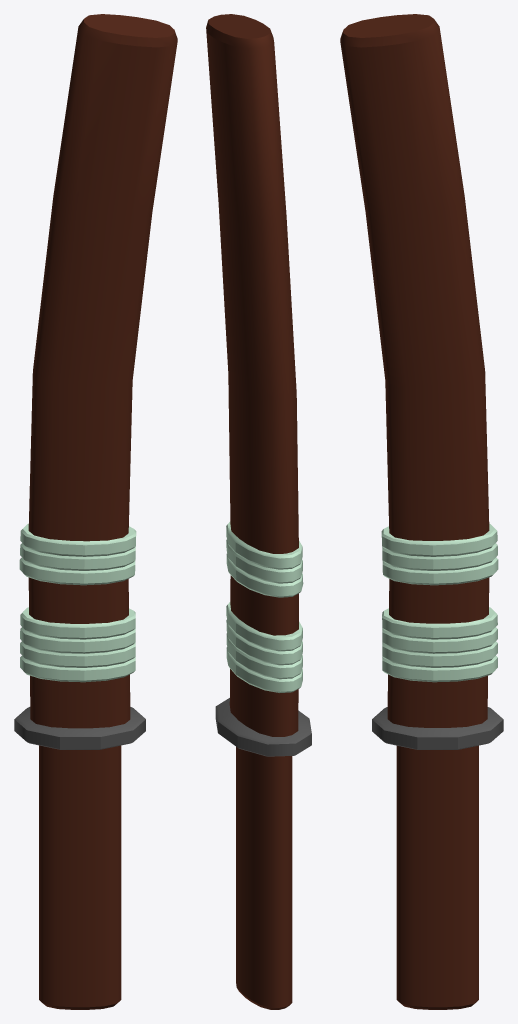
The model's file is 검수정본.fbx.
The picture shows the model from 3 angles, left to right: view 1: azimuth 90°, elevation 25°; view 2: azimuth 210°, elevation 25°; view 3: azimuth 270°, elevation 25°; orthographic projection. The views are drawn at different scales.
Visible parts, largest first — view 1: Cylinder.011; view 2: Cylinder.011; view 3: Cylinder.011.
Boxes of the visible parts, x1,y1,x2,y2 form: Cylinder.011: (14,14,177,1009); Cylinder.011: (206,14,311,1009); Cylinder.011: (340,14,503,1009).
Bounding box in the file's own units: 16.2 × 206 × 31.11.
